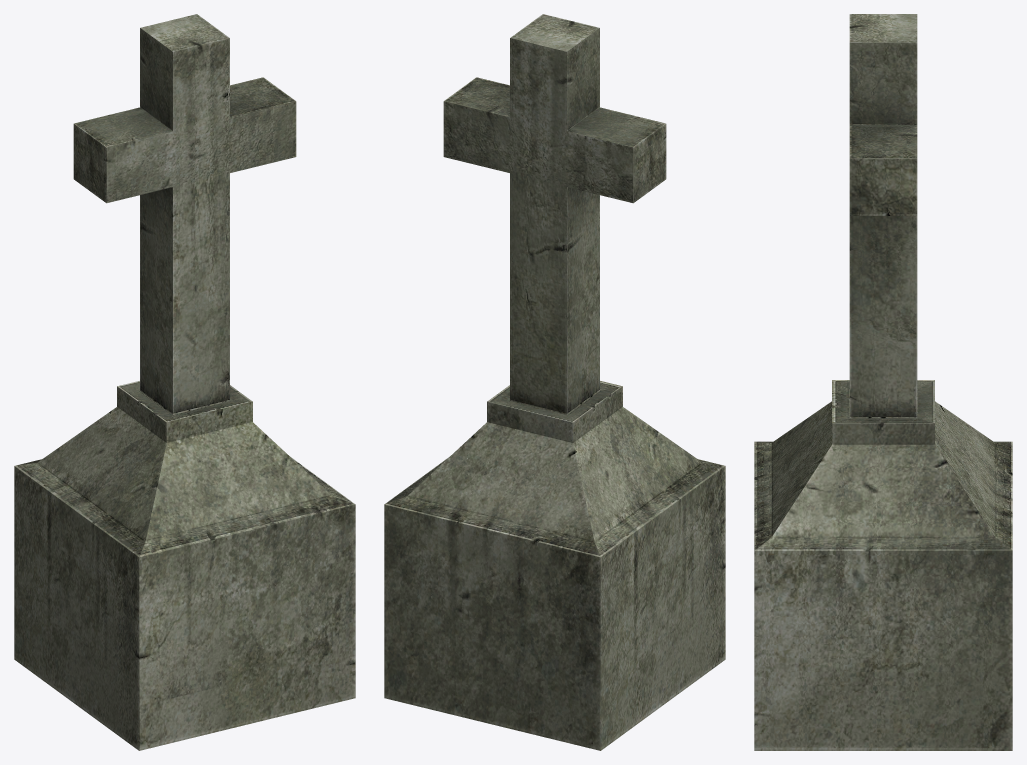
File: Gravestone08.dae
3 views of the same model, side by side, from view 1: azimuth 30°, elevation 25°; view 2: azimuth 150°, elevation 25°; view 3: azimuth 270°, elevation 25° (orthographic). The views are drawn at different scales.
Visible parts, largest first — view 1: Gravestone08; view 2: Gravestone08; view 3: Gravestone08.
Boxes of the visible parts, x1=… form: Gravestone08: x1=14, y1=14, x2=355, y2=750; Gravestone08: x1=384, y1=14, x2=725, y2=750; Gravestone08: x1=754, y1=14, x2=1012, y2=750.
Bounding box in the file's own units: 0.5463 × 0.5463 × 1.56.
